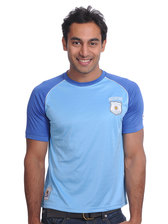clothoes: (24, 67, 144, 216)
